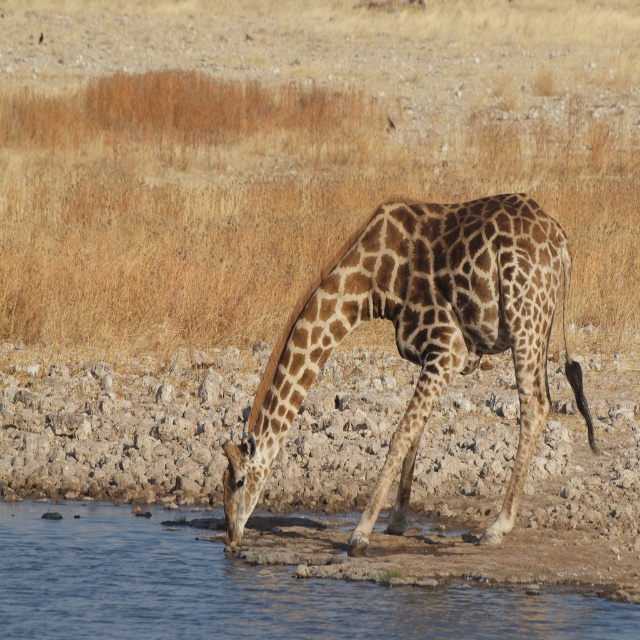Giraffe: (225, 167, 596, 580)
